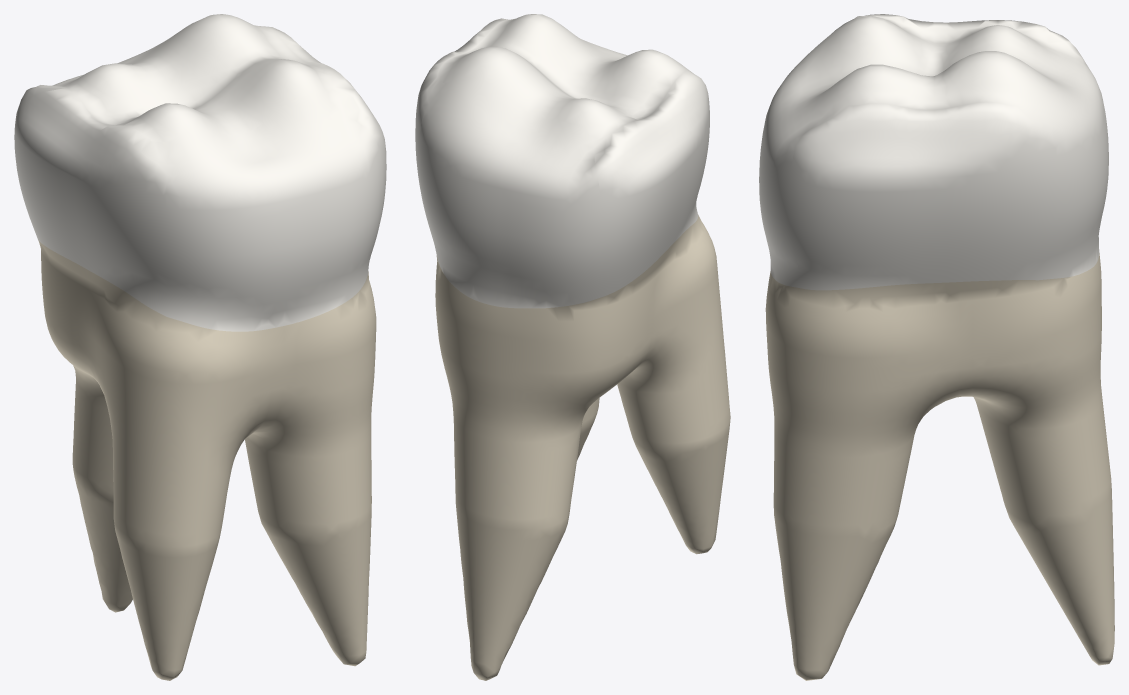
3 renders of one model, left to right at view 1: azimuth 30°, elevation 25°; view 2: azimuth 150°, elevation 25°; view 3: azimuth 270°, elevation 25°, orthographic. The views are drawn at different scales.
Visible parts, largest first — view 1: root, V, D, O, M; view 2: root, L, D, O, M; view 3: root, M, O, L, V, D.
Boxes of the visible parts, left/top/right/bottom form: root: left=38, top=240, right=376, bottom=680; V: left=166, top=94, right=382, bottom=331; D: left=14, top=83, right=169, bottom=316; O: left=67, top=14, right=334, bottom=142; M: left=264, top=26, right=386, bottom=276; root: left=435, top=214, right=730, bottom=680; L: left=418, top=76, right=600, bottom=308; D: left=592, top=65, right=709, bottom=298; O: left=437, top=14, right=686, bottom=140; M: left=415, top=18, right=509, bottom=191; root: left=765, top=253, right=1114, bottom=680; M: left=789, top=97, right=1057, bottom=290; O: left=836, top=15, right=1031, bottom=109; L: left=1025, top=37, right=1108, bottom=279; V: left=759, top=30, right=841, bottom=287; D: left=834, top=14, right=1070, bottom=43.
Bounding box in the file's own units: 10.3 × 21.97 × 11.18.
